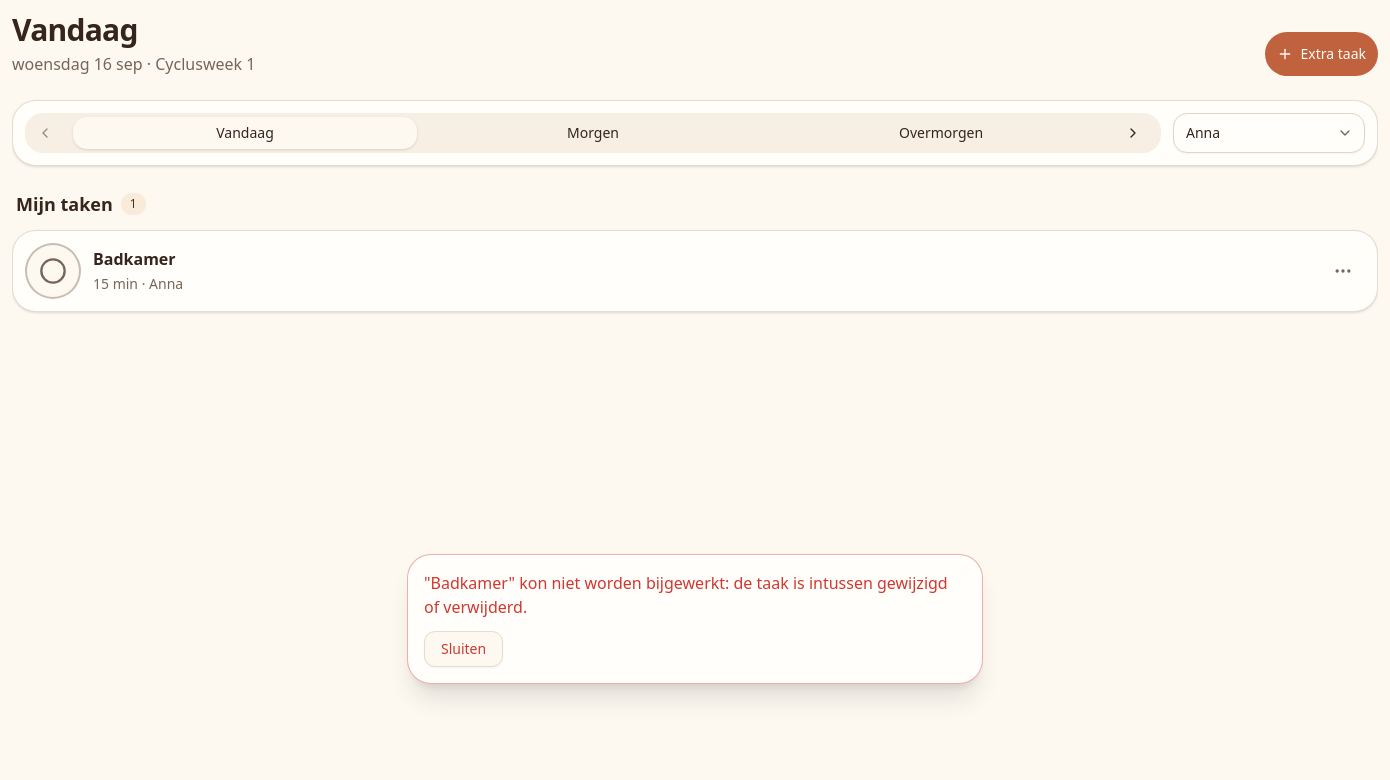
Test case: offline check-off › reports a queued change that the server no longer accepts, and drops it
Expected: the text "\"Badkamer\" kon niet worden bijgewerkt: de taak is intussen gewijzigd of verwijderd." is shown, [424,572,948,618]
Click the button "Sluiten": point(464, 649) [424,631,503,667]
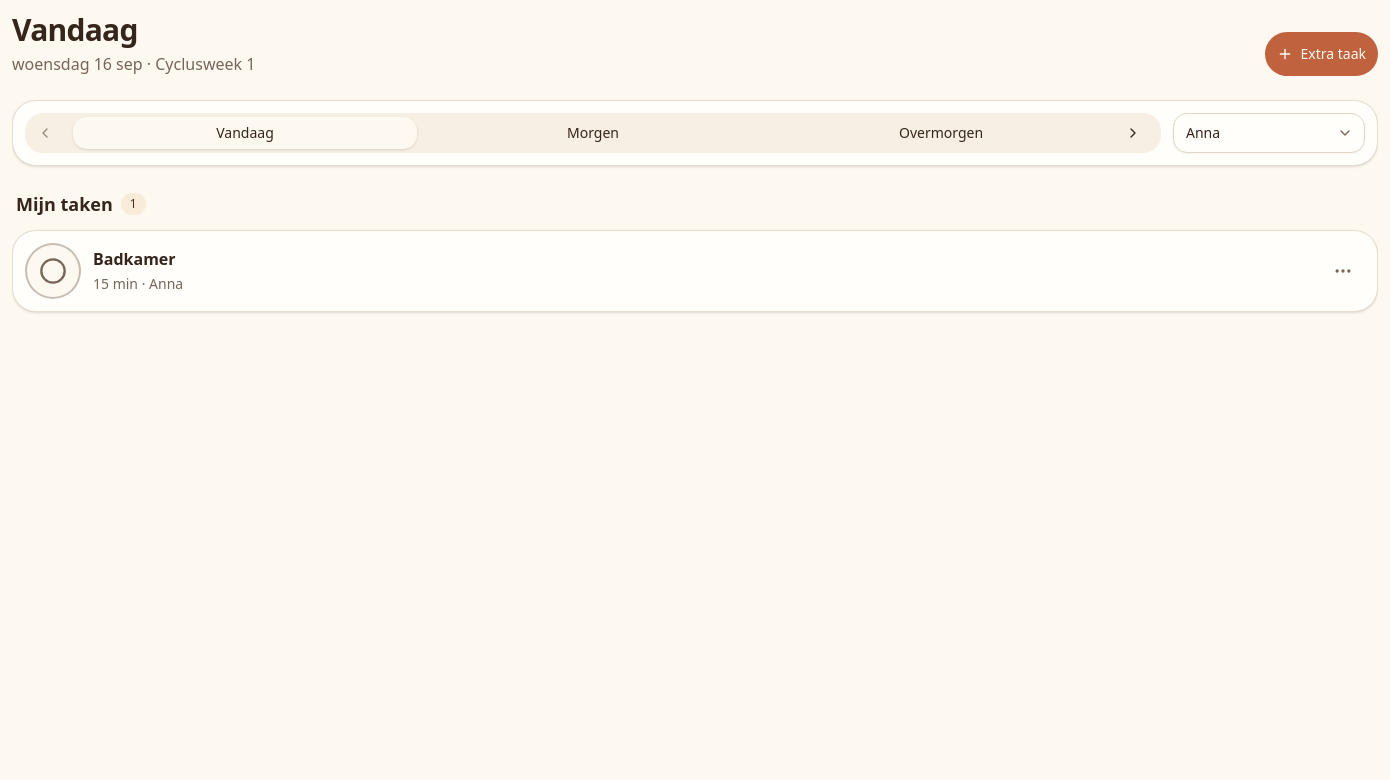
Expected: the text "kon niet worden bijgewerkt" is gone
